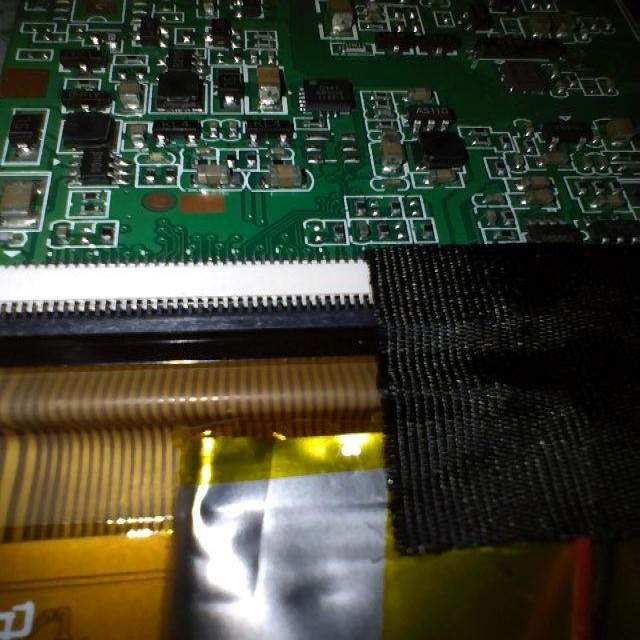capacitor: (244, 55, 298, 115), (251, 151, 316, 198), (362, 123, 410, 185)
